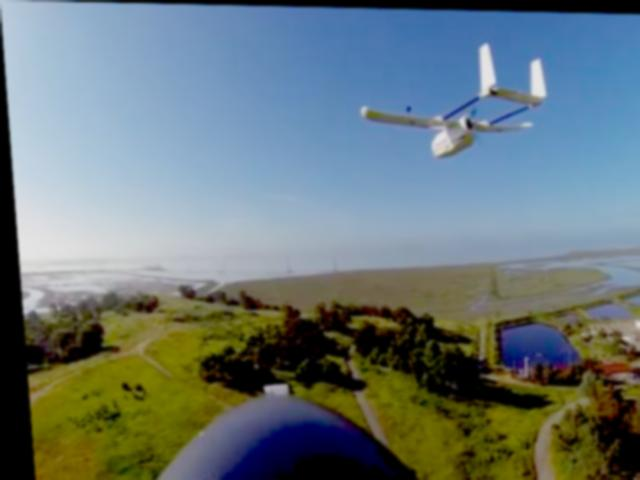uav: (353, 38, 556, 160)
